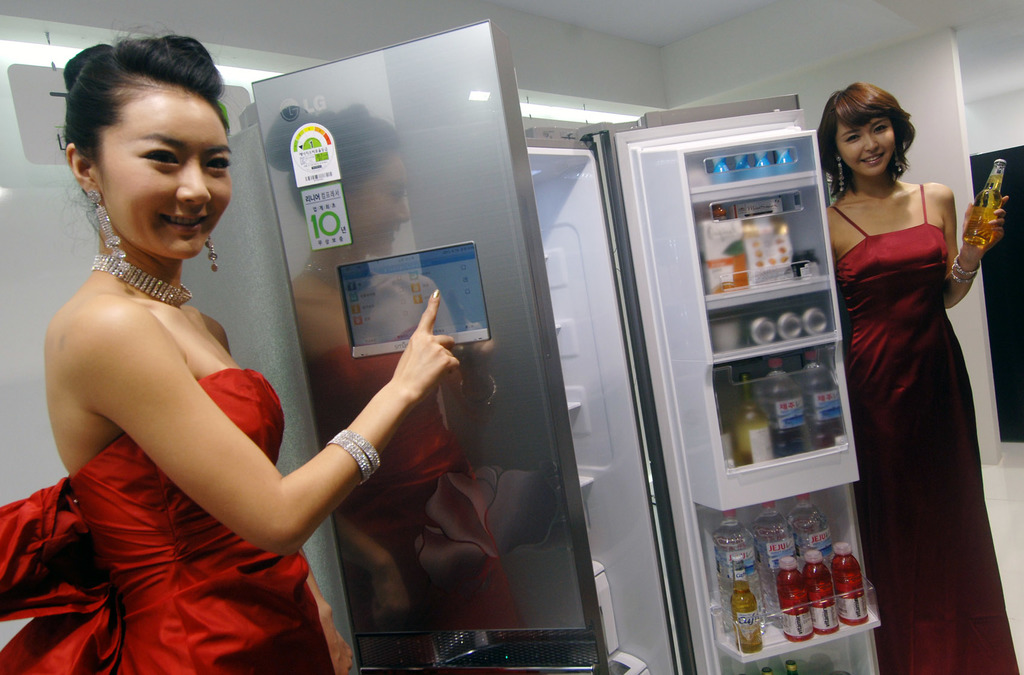refrigerator door: (290, 82, 534, 630), (626, 134, 835, 621)
